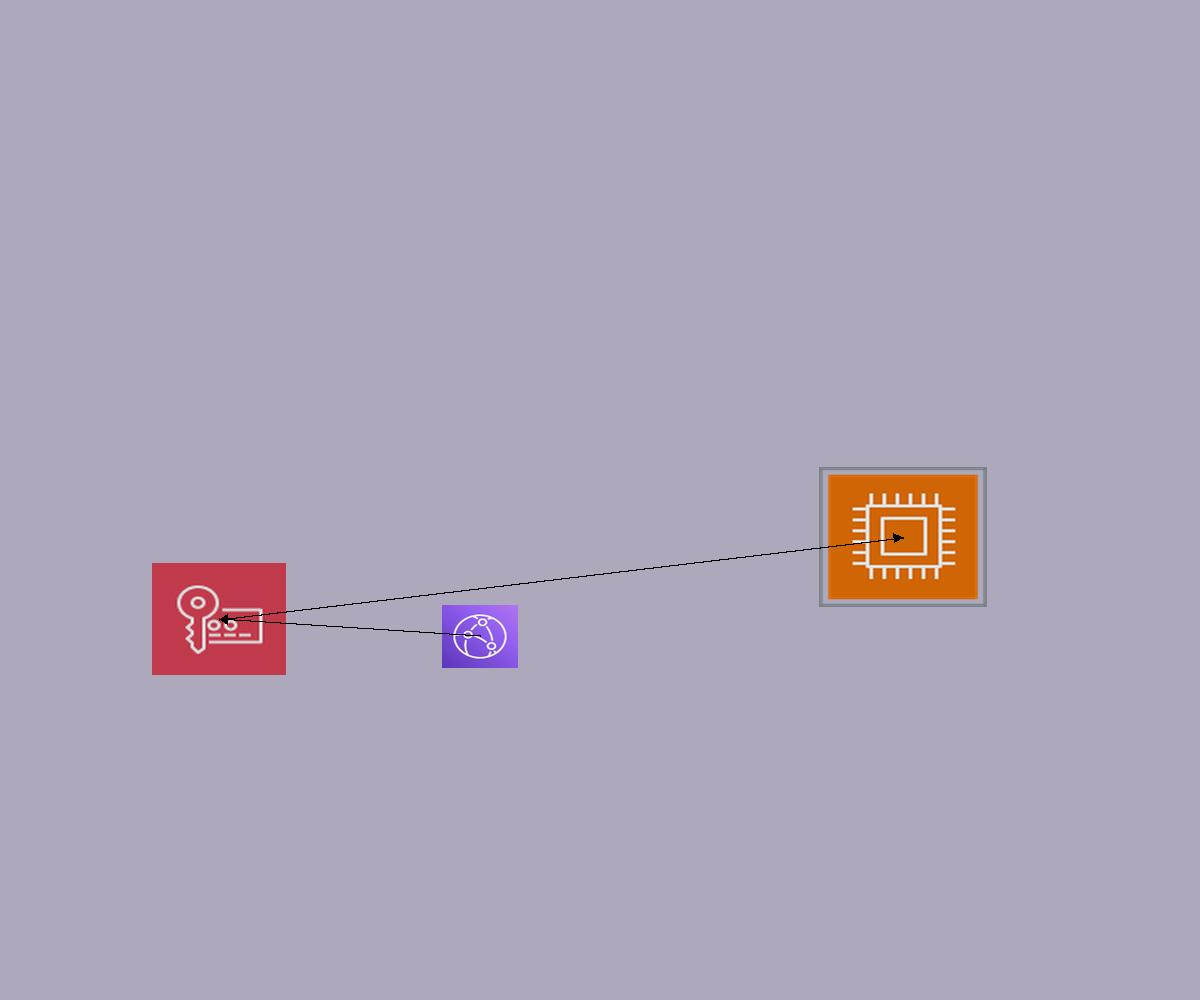AWS-Category_Compute: (819, 467, 987, 607)
AWS-CloudFront: (442, 605, 518, 668)
AWS-Key-Management-Service: (152, 563, 286, 675)
